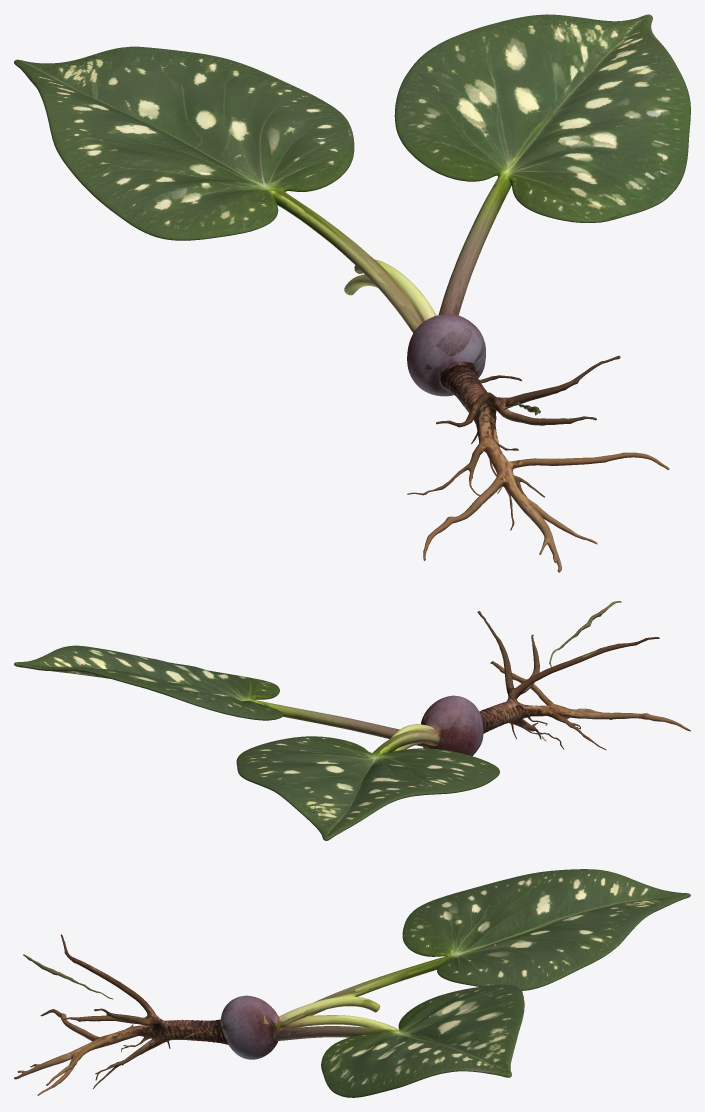
Rendered from xixin.glb.
3 renders of one model, top to bottom at view 1: azimuth 30°, elevation 25°; view 2: azimuth 150°, elevation 25°; view 3: azimuth 270°, elevation 25°, orthographic. The views are drawn at different scales.
Visible parts, largest first — view 1: node_0; view 2: node_0; view 3: node_0.
Part boxes in pixels (<box>): node_0: <box>14,14,690,572</box>; node_0: <box>14,601,690,840</box>; node_0: <box>14,869,690,1097</box>.
Size of the model in its own units: 0.7514 by 0.289 by 1.02.
Materials: 1 (1 with a texture image).
